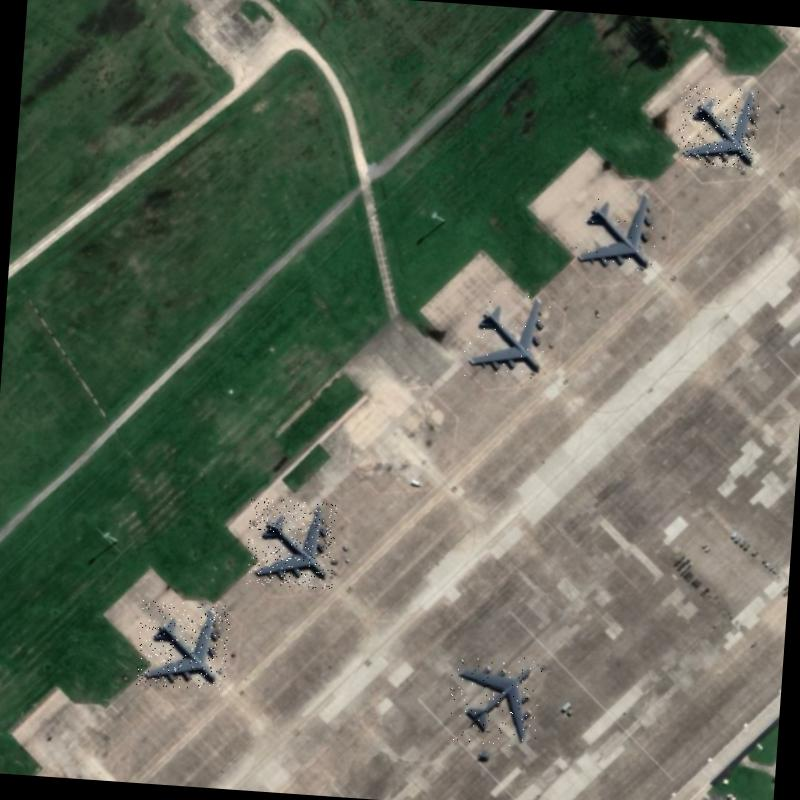A8: (444, 649, 542, 747), (460, 288, 554, 382), (136, 600, 231, 692), (245, 497, 338, 590), (570, 184, 660, 276), (676, 84, 760, 170)
